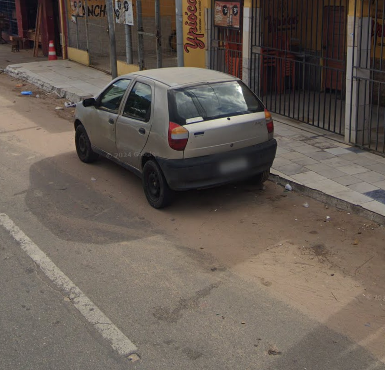car: (72, 60, 281, 221)
